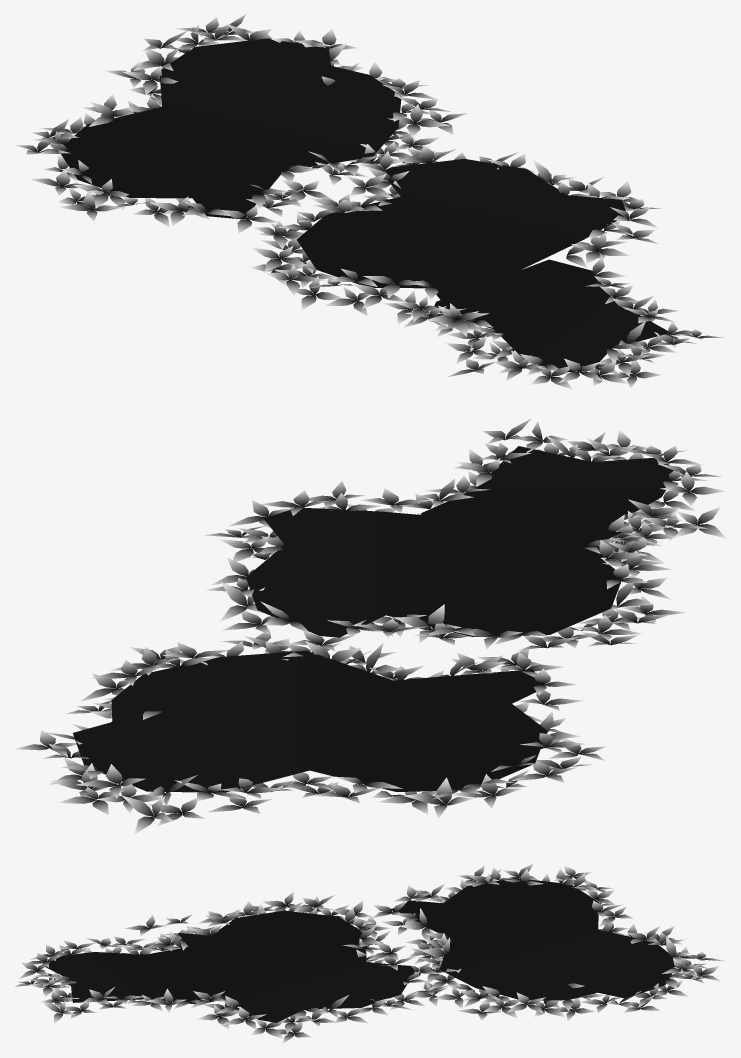
The model's file is SM_ENV_KNFRST_LeafShadow_GroupD.FBX.
The picture shows the model from 3 angles, top to bottom: view 1: azimuth 30°, elevation 25°; view 2: azimuth 150°, elevation 25°; view 3: azimuth 270°, elevation 25°; orthographic projection. The views are drawn at different scales.
Visible parts, largest first — view 1: SM_ENV_KNFRST_LeafShadow_GroupD; view 2: SM_ENV_KNFRST_LeafShadow_GroupD; view 3: SM_ENV_KNFRST_LeafShadow_GroupD.
Part boxes in pixels (left/top/right/bottom): SM_ENV_KNFRST_LeafShadow_GroupD: left=14, top=14, right=724, bottom=389; SM_ENV_KNFRST_LeafShadow_GroupD: left=14, top=418, right=726, bottom=834; SM_ENV_KNFRST_LeafShadow_GroupD: left=15, top=863, right=725, bottom=1043.
Size of the model in its own units: 953 by 87.89 by 1684.
